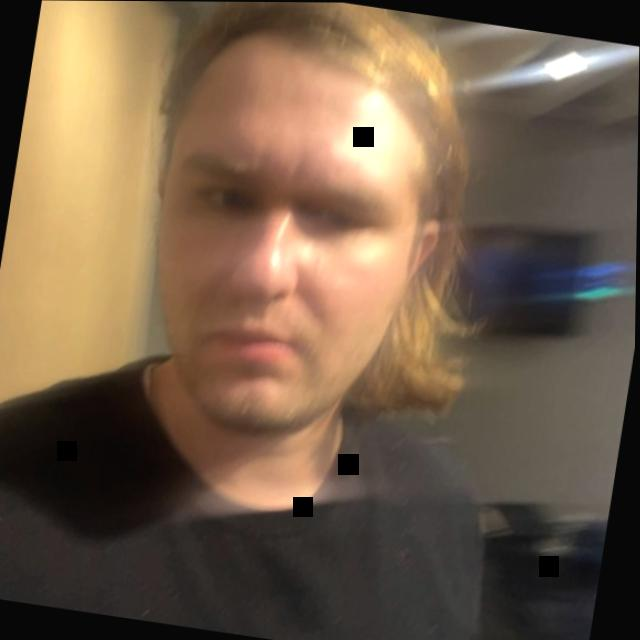NO-Mask: (106, 1, 502, 504)
